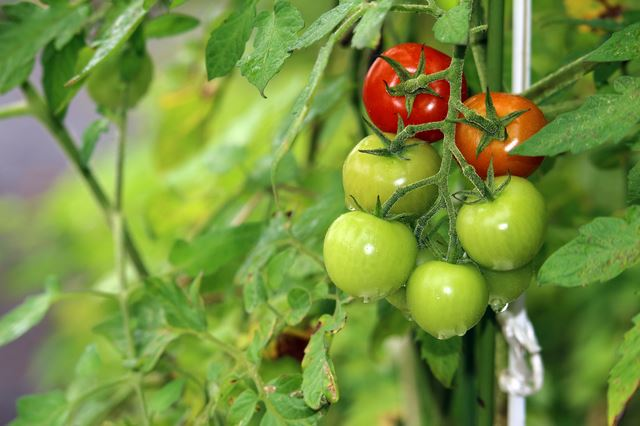stems: (378, 174, 439, 216), (449, 140, 490, 197), (391, 119, 443, 152), (456, 99, 495, 134), (403, 69, 448, 93)
tomato: (363, 41, 470, 140), (453, 174, 548, 271), (337, 130, 441, 217), (448, 92, 550, 180), (322, 212, 419, 297), (450, 227, 535, 309), (404, 260, 489, 339)
